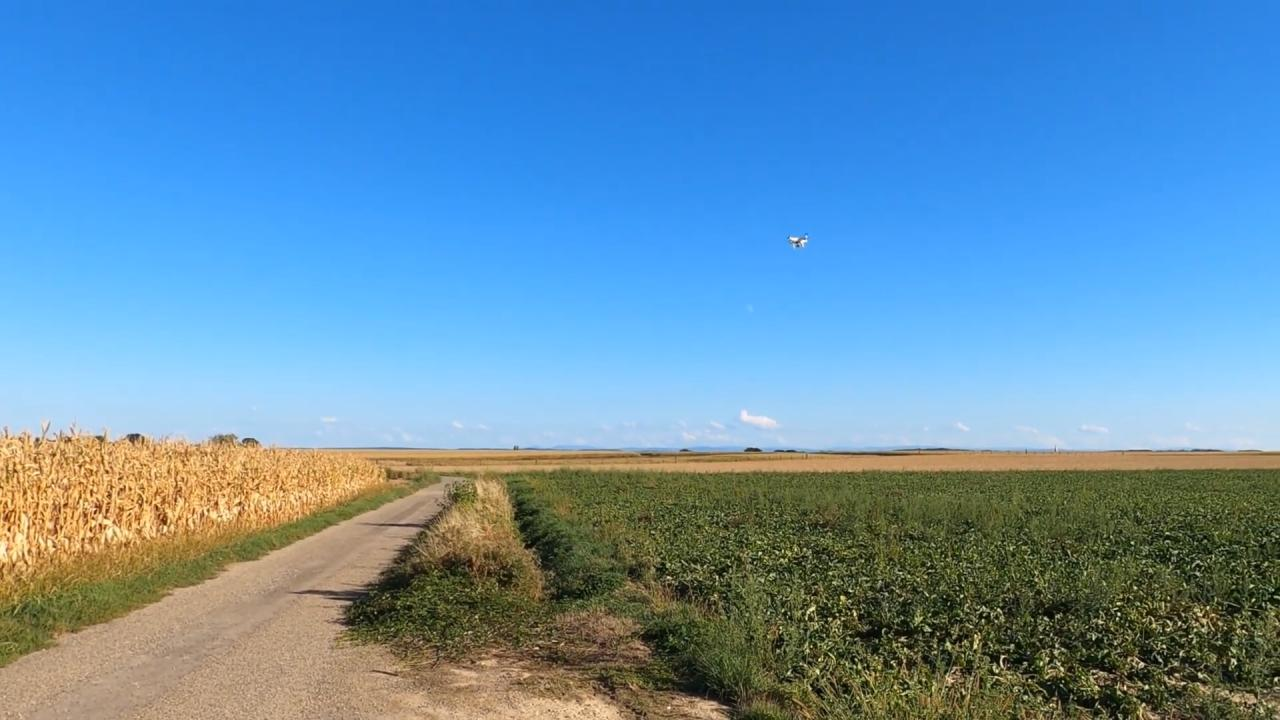Drone: (776, 222, 821, 261)
